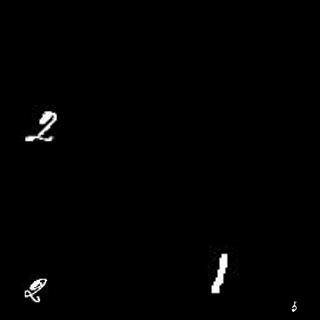five: (289, 297, 300, 313)
one: (212, 252, 227, 293)
two: (22, 110, 65, 144), (24, 276, 47, 302)
